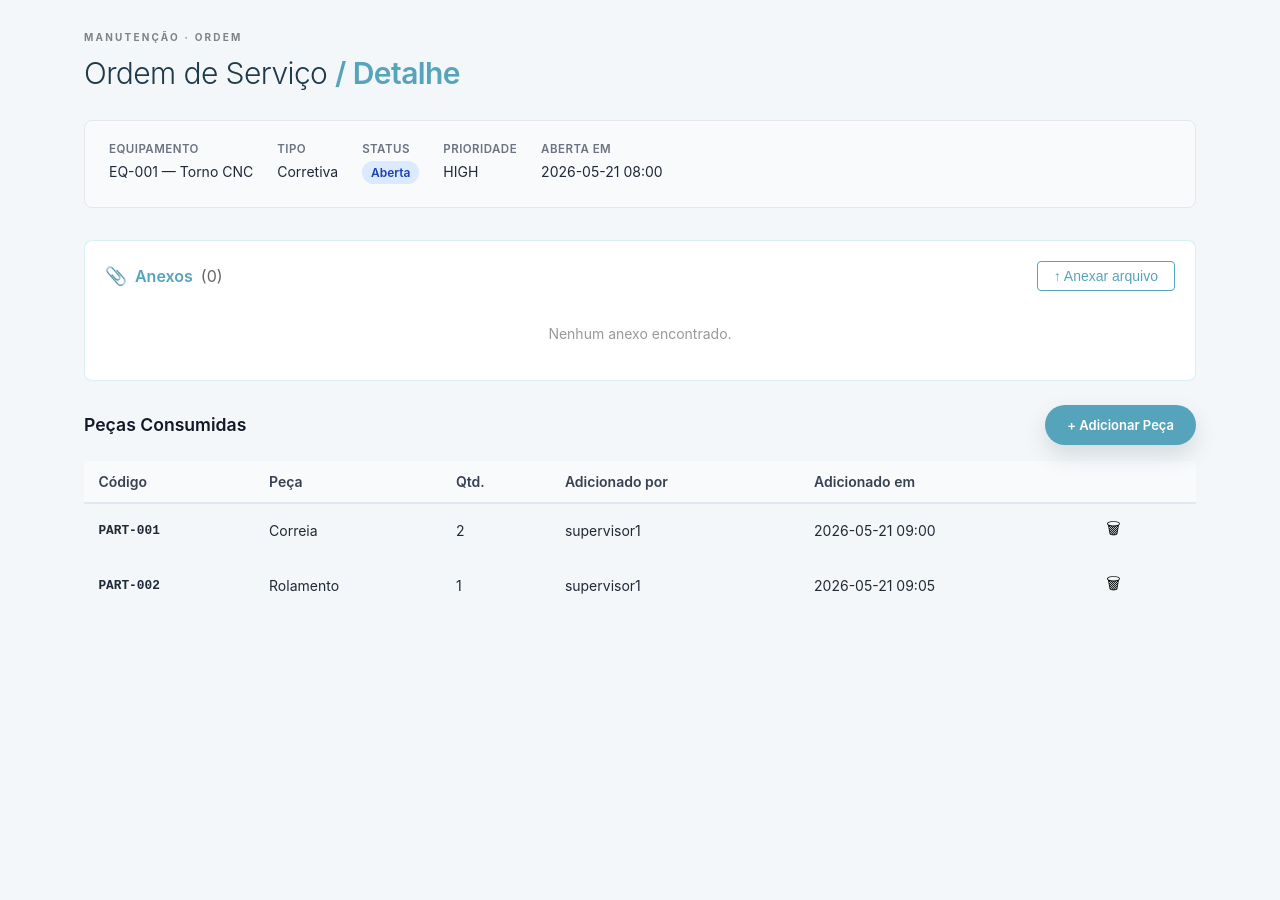
Scenario: WorkOrderDetailComponent › should open confirm dialog when trash button is clicked
Click the button with test id "btn-remove-part" in the row of "PART-001" at (1114, 531), box [1098, 513, 1129, 548]
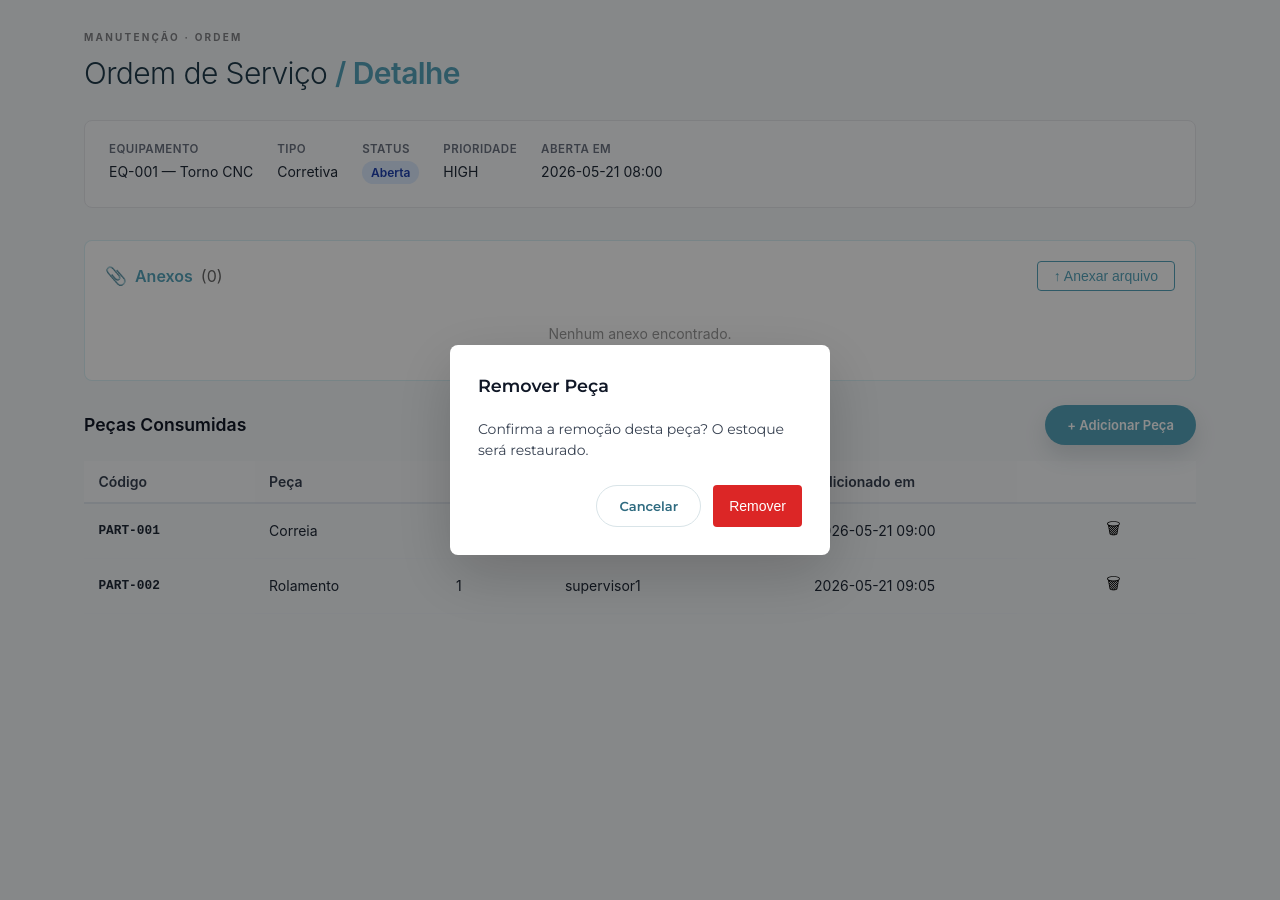
Check: the button with test id "btn-confirm-remove" is shown, box [713, 485, 802, 527]
